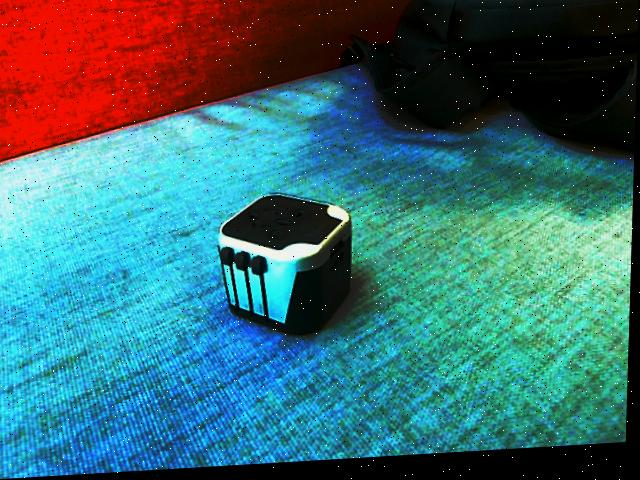adapter: (216, 192, 355, 343)
